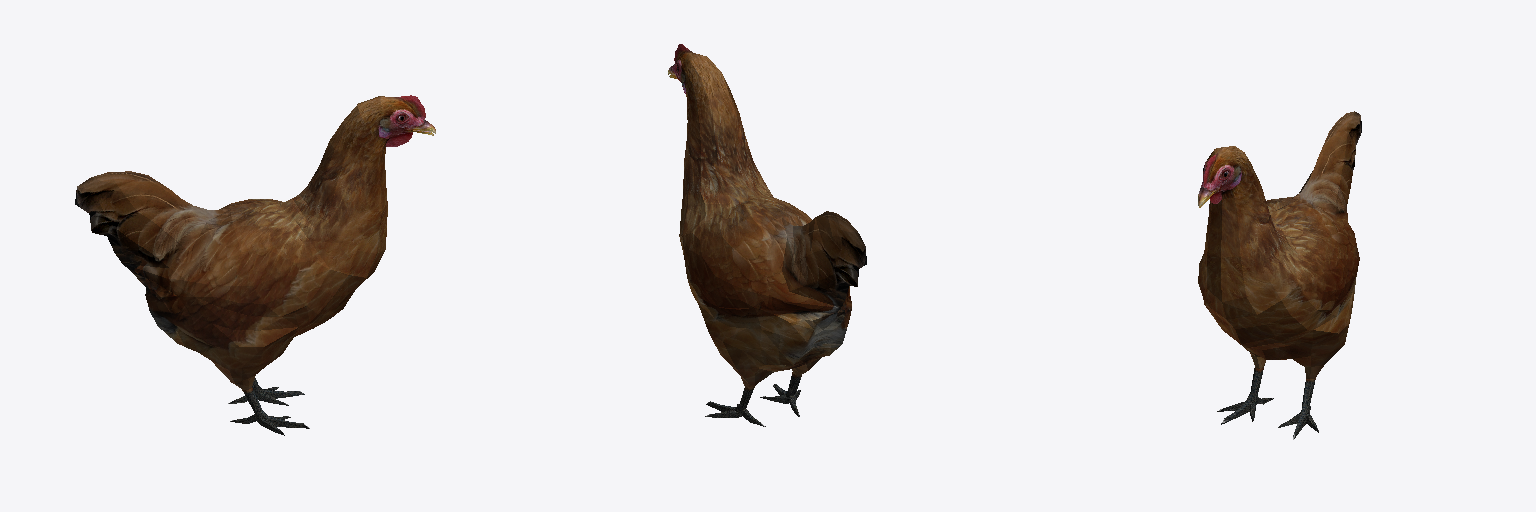
3 views of the same model, side by side, from view 1: azimuth 30°, elevation 25°; view 2: azimuth 150°, elevation 25°; view 3: azimuth 270°, elevation 25° (orthographic).
Visible parts, largest first — view 1: MESH_chicken_brown_1658; view 2: MESH_chicken_brown_1658; view 3: MESH_chicken_brown_1658.
Part boxes in pixels (x1,y1,x2,y2): MESH_chicken_brown_1658: (75,95,435,435); MESH_chicken_brown_1658: (668,44,866,426); MESH_chicken_brown_1658: (1198,111,1361,439).
Size of the model in its own units: 0.6665 by 0.713 by 0.3384.
1 materials, 1 textured.